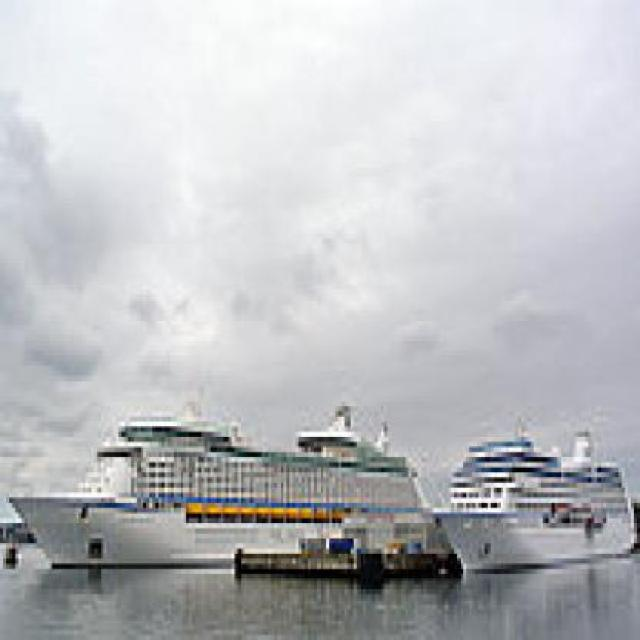cruise: (1, 376, 438, 601), (427, 427, 638, 606)
